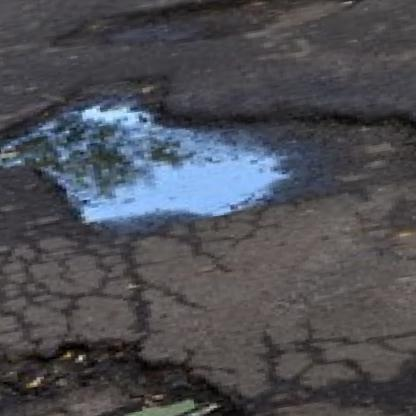pothole: (0, 34, 416, 252), (0, 313, 269, 416), (43, 0, 370, 67)
